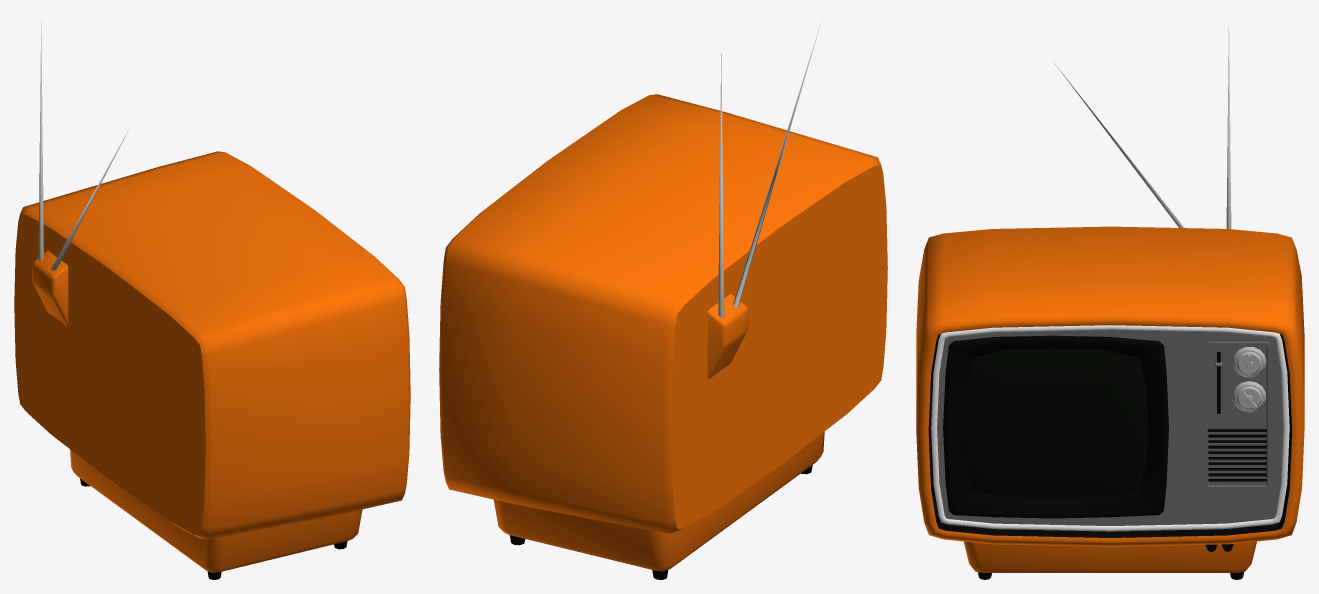
File: television_m.obj
The picture shows the model from 3 angles, left to right: view 1: azimuth 30°, elevation 25°; view 2: azimuth 150°, elevation 25°; view 3: azimuth 270°, elevation 25°; orthographic projection. The views are drawn at different scales.
Visible parts, largest first — view 1: Retro_TV; view 2: Retro_TV; view 3: Retro_TV.
Part boxes in pixels (x1,y1,x2,y2): Retro_TV: (14, 22, 410, 579); Retro_TV: (439, 22, 887, 579); Retro_TV: (916, 26, 1304, 579).
Size of the model in its own units: 2.34 by 4.87 by 3.58.
